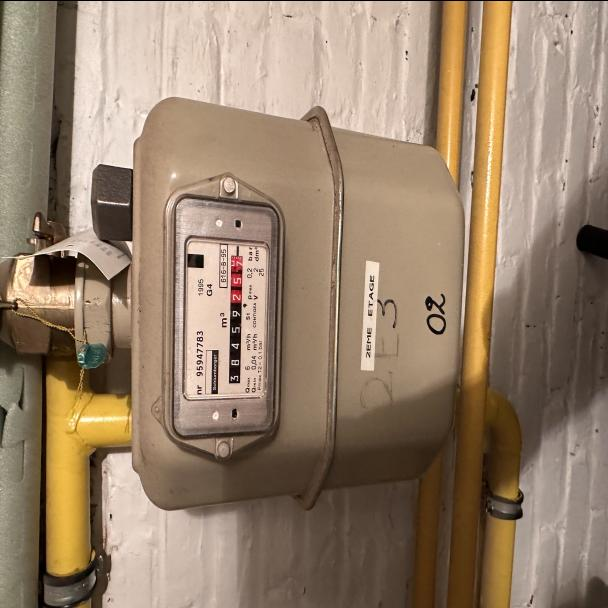2: (228, 285, 246, 305)
3: (223, 368, 243, 385)
4: (224, 338, 246, 354)
5: (222, 316, 244, 338), (228, 269, 246, 289)
7: (226, 246, 246, 272)
8: (224, 354, 244, 368)
9: (229, 301, 245, 319)
cm: (226, 246, 246, 304)
counter: (225, 301, 247, 387)
